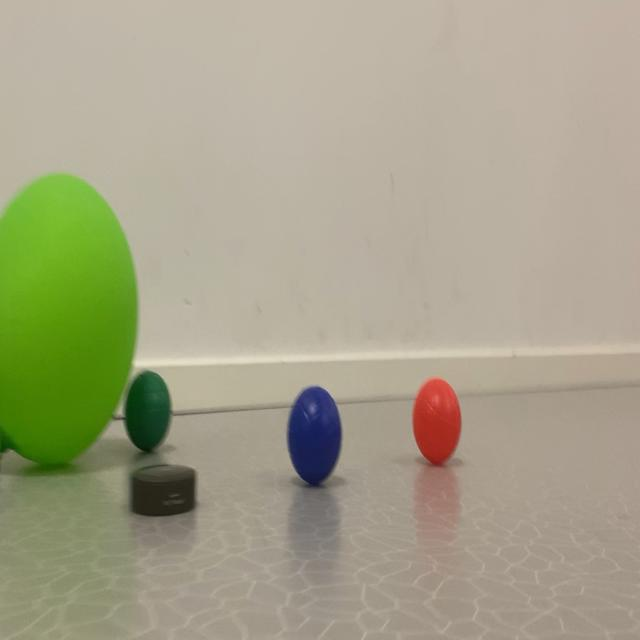7: (384, 333, 509, 628)
blue ball: (118, 356, 514, 475)
green ball: (272, 340, 352, 532)
red ball: (116, 343, 187, 466)
